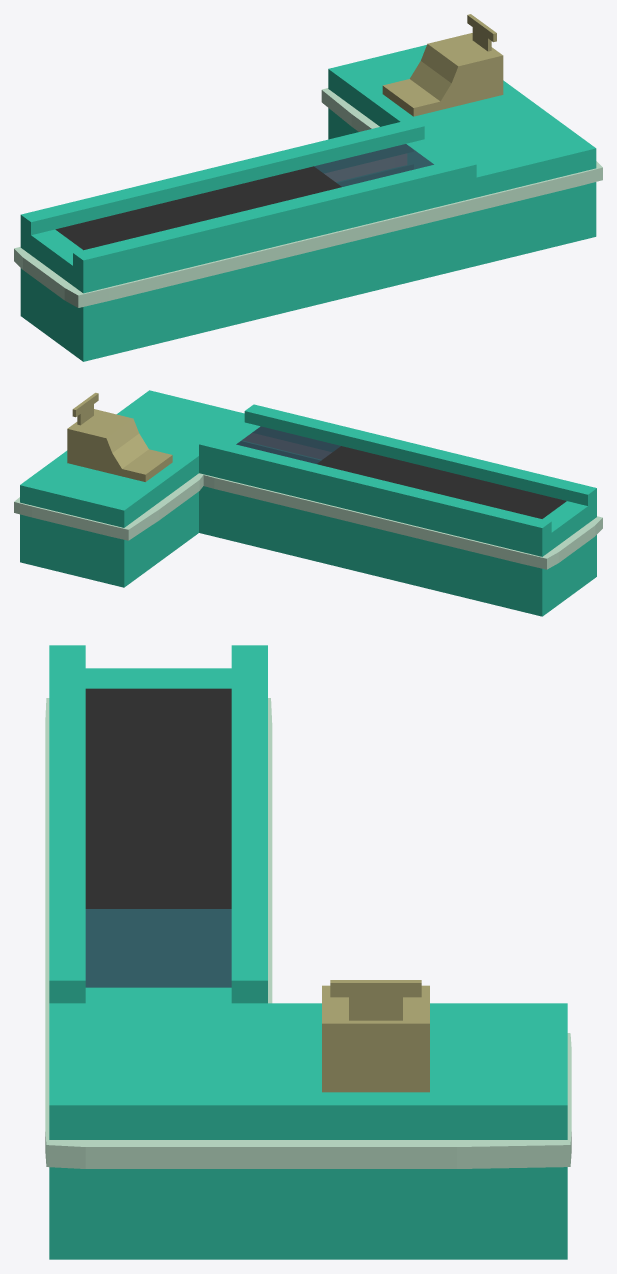
Rendered from Grocery Checkout.fbx.
The picture shows the model from 3 angles, top to bottom: view 1: azimuth 30°, elevation 25°; view 2: azimuth 150°, elevation 25°; view 3: azimuth 270°, elevation 25°; orthographic projection. The views are drawn at different scales.
Visible parts, largest first — view 1: Plane.059; view 2: Plane.059; view 3: Plane.059.
Boxes of the visible parts, x1=… form: Plane.059: x1=14, y1=14, x2=602, y2=361; Plane.059: x1=14, y1=390, x2=602, y2=616; Plane.059: x1=45, y1=645, x2=571, y2=1259.
Size of the model in its own units: 574 by 154 by 283.
